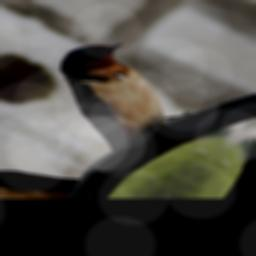Swallow: (8, 29, 226, 166)
